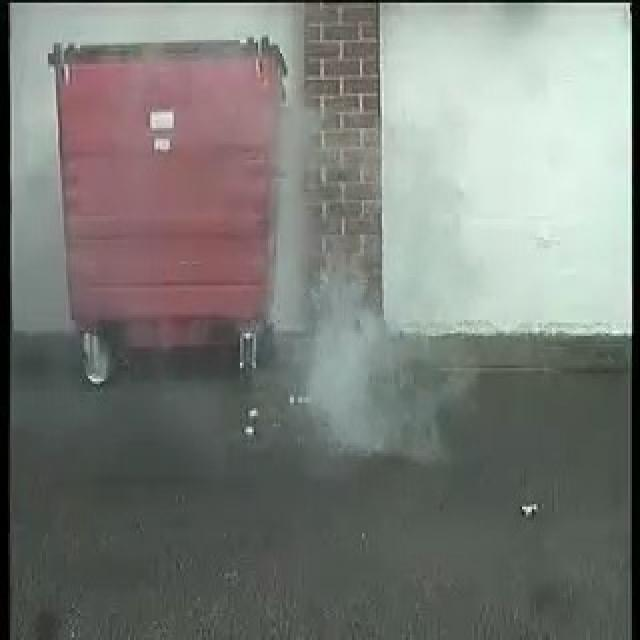smoke: (270, 122, 407, 444)
